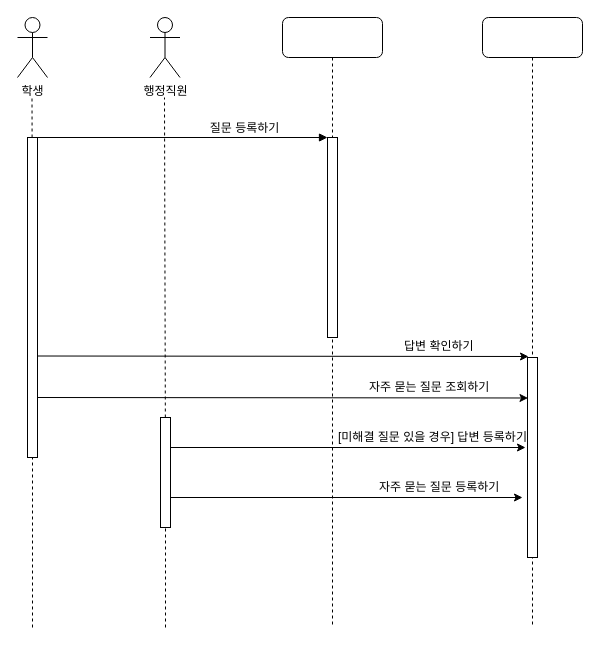
Some shapes in this 600 by 646 pixel diagram are drawn without their labels. Each missing label, with the centre of its shape:
:답변: point (532, 322)
:질문: point (332, 322)
